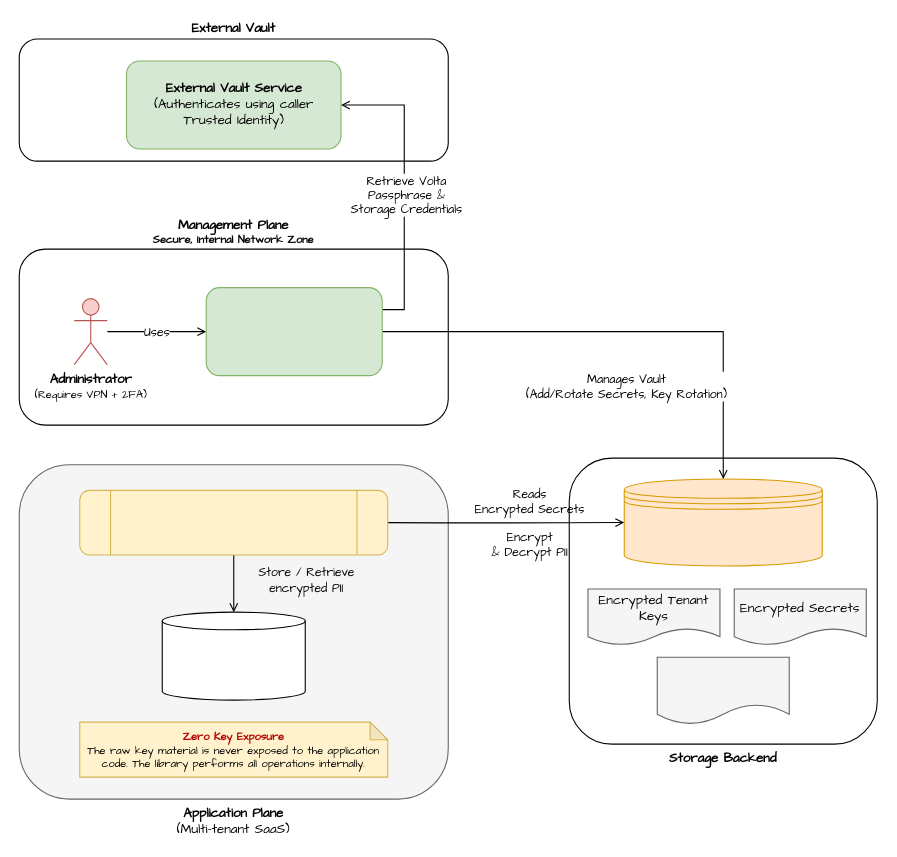
This 897x857 diagram has some shape labels left out. The shapes that lost their labels are listed below. From the top down, each one's box as (x1, y1, x2, y2) in pixels, then its label:
(205, 287, 382, 376): Volta CLI Go Binary on Bastion Host
(79, 489, 388, 555): APPLICATION with Volta Embedded Library Internal Crypto Engine
(623, 478, 822, 566): Pluggable Storage Backend (e.g., Internal S3, File System)
(161, 611, 305, 700): Application Database (Encrypted PII)
(656, 656, 789, 724): Audit Logs
